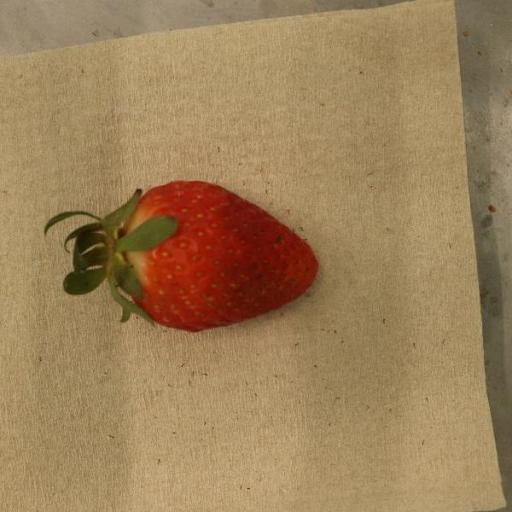Strawberry: (62, 181, 319, 333)
